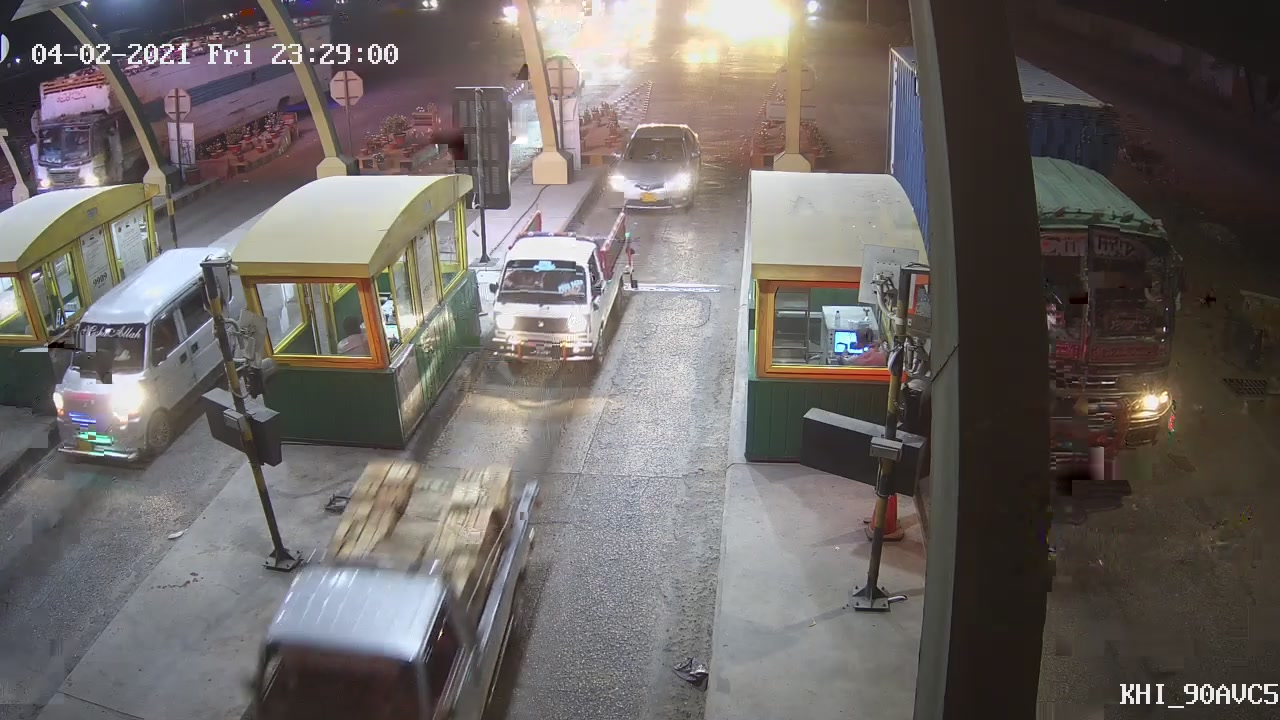F1: (487, 208, 635, 376)
